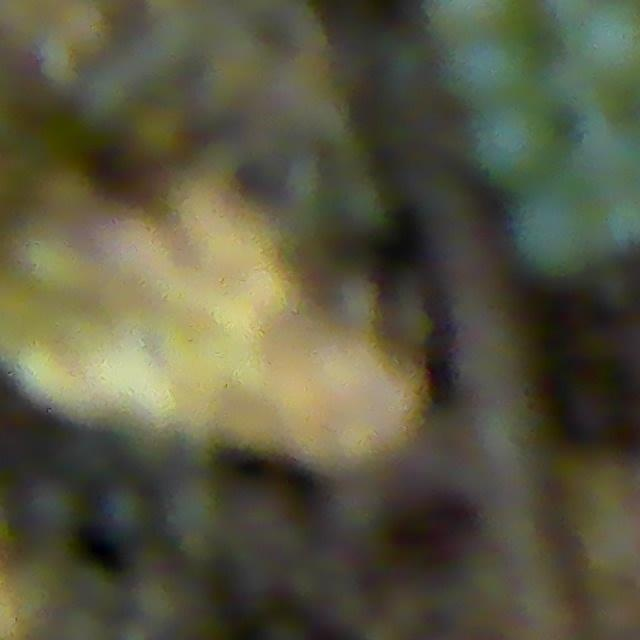SeaGrape: (512, 189, 601, 279), (468, 98, 556, 186), (449, 26, 534, 105), (18, 477, 81, 540)
